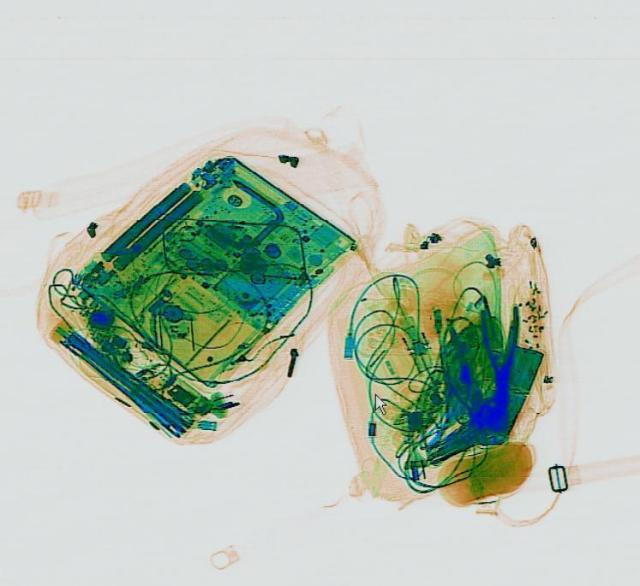Pliers: (478, 304, 520, 400)
